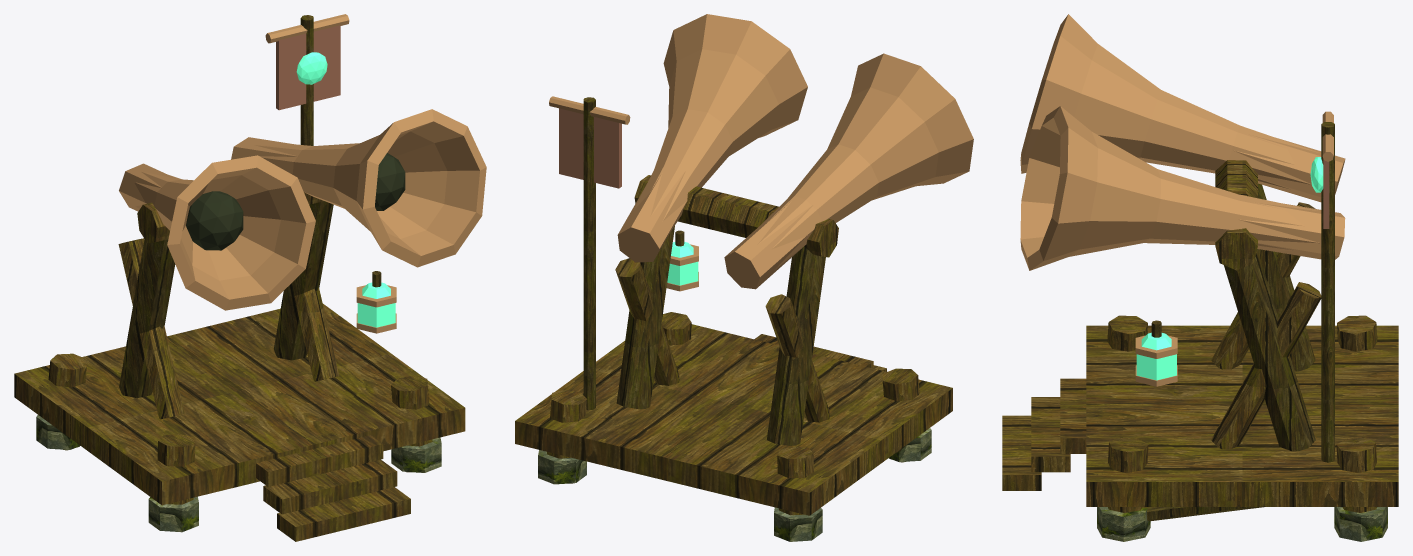
Rendered from 16-greater-horn.glb.
3 views of the same model, side by side, from view 1: azimuth 30°, elevation 25°; view 2: azimuth 150°, elevation 25°; view 3: azimuth 270°, elevation 25° (orthographic). The views are drawn at different scales.
Parts seen in each view (by area): view 1: 16-greater-horn; view 2: 16-greater-horn; view 3: 16-greater-horn.
Boxes of the visible parts, x1,y1,x2,y2 form: 16-greater-horn: [14, 14, 486, 541]; 16-greater-horn: [515, 14, 973, 541]; 16-greater-horn: [1002, 14, 1398, 541].
Size of the model in its own units: 2.69 by 3.06 by 2.73.
Materials: 7 (3 with a texture image).
